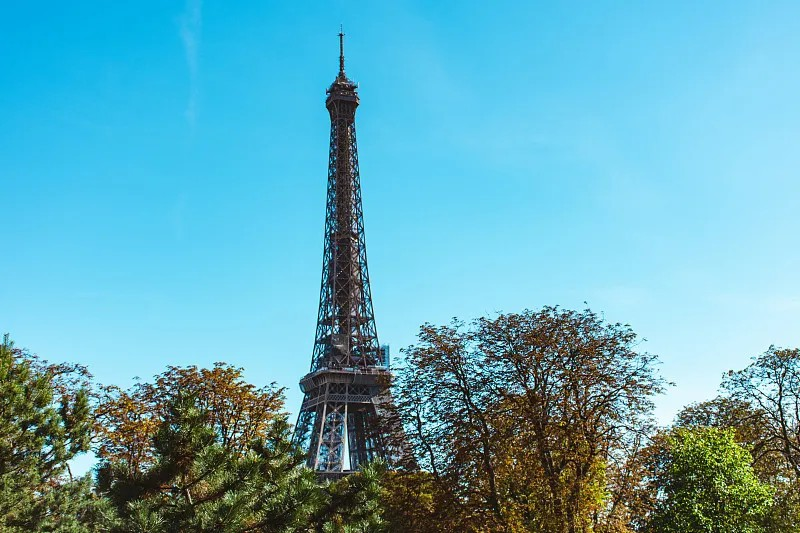Eiffel: (283, 24, 421, 490)
